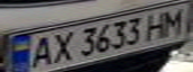3: (109, 18, 133, 51), (124, 15, 148, 46), (75, 25, 96, 57)
6: (93, 21, 115, 54)
A: (24, 34, 57, 70)
H: (139, 10, 172, 40)
M: (157, 7, 190, 36)
X: (45, 29, 78, 65)
